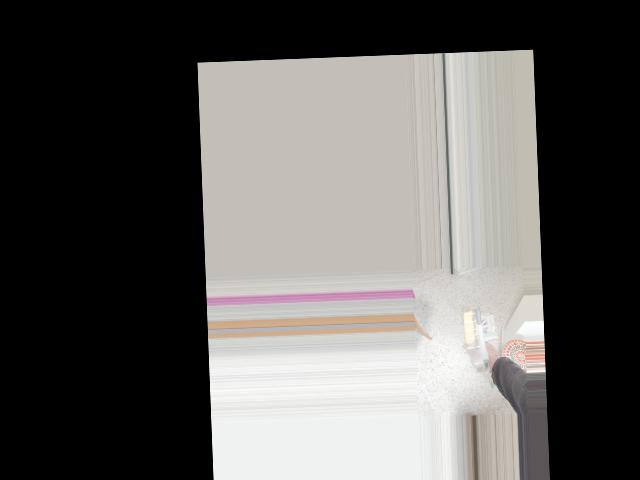cheese: (445, 306, 522, 360)
